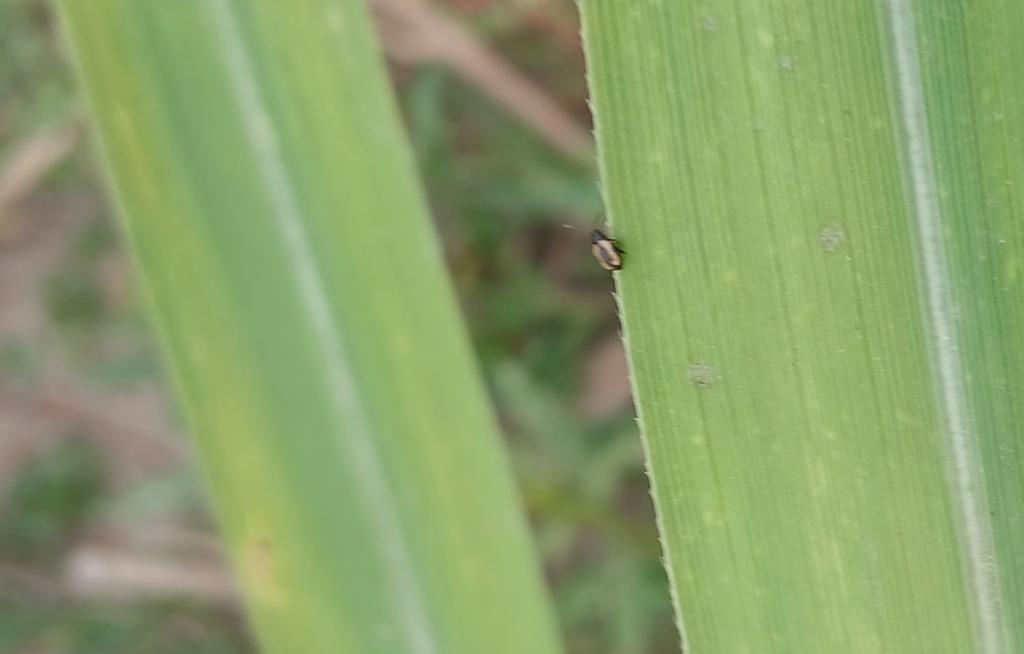flea_beetle: (548, 194, 642, 289)
